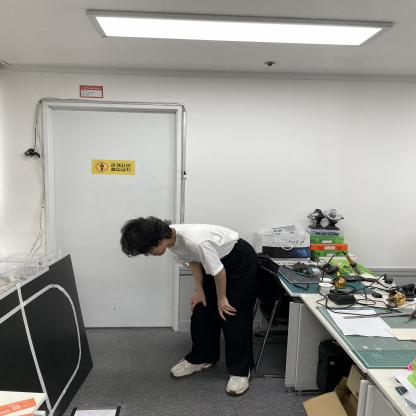fall: (121, 214, 268, 395)
